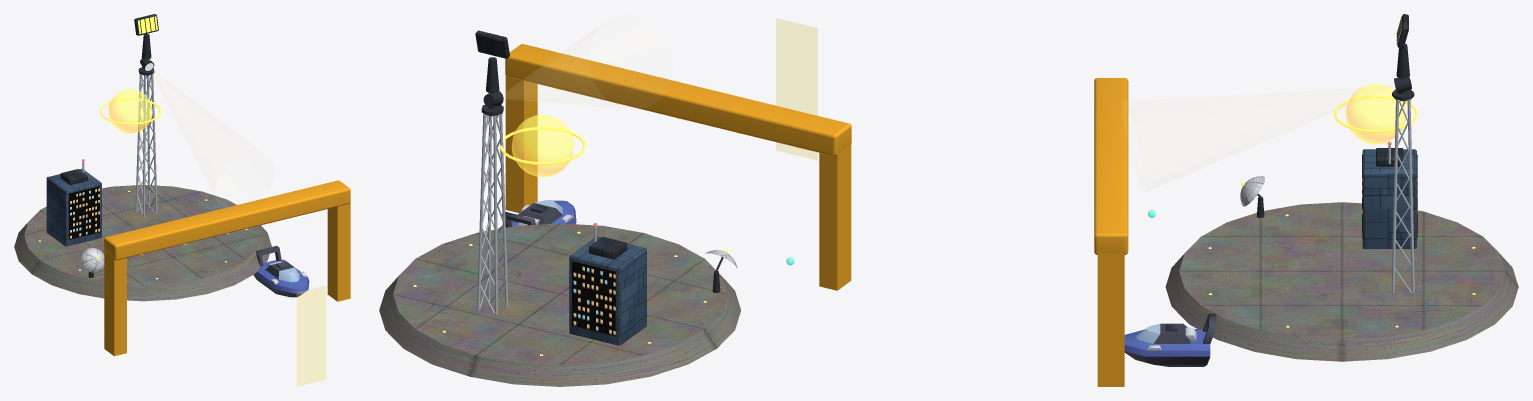
File: customs-T5.glb
3 renders of one model, left to right at view 1: azimuth 30°, elevation 25°; view 2: azimuth 150°, elevation 25°; view 3: azimuth 270°, elevation 25°, orthographic. The views are drawn at different scales.
Visible parts, largest first — view 1: object 1, object 81, anim:scan, object 80, object 79, object 11, boat-speed-a, object 92, object 12, anim:rot (×2), object 14, object 93; view 2: object 1, object 81, object 79, object 80, object 11, anim:scan, object 92, object 13, boat-speed-a, anim:rot, object 14, object 93 (+1 smaller); view 3: object 1, object 81, object 11, object 80, boat-speed-a, object 92.
Boxes of the visible parts, left/top/right/bottom form: object 1: left=14, top=185, right=271, bottom=301; object 81: left=104, top=180, right=350, bottom=260; anim:scan: left=297, top=286, right=326, bottom=386; object 80: left=327, top=203, right=350, bottom=301; object 79: left=104, top=251, right=126, bottom=356; object 11: left=46, top=169, right=101, bottom=246; boat-speed-a: left=253, top=245, right=309, bottom=297; object 92: left=108, top=89, right=152, bottom=133; object 12: left=68, top=186, right=99, bottom=239; anim:rot (×2): left=81, top=14, right=158, bottom=273; object 14: left=60, top=169, right=87, bottom=184; object 93: left=100, top=98, right=161, bottom=124; object 1: left=379, top=223, right=740, bottom=386; object 81: left=505, top=44, right=851, bottom=156; object 79: left=819, top=144, right=851, bottom=290; object 80: left=505, top=75, right=537, bottom=212; object 11: left=569, top=236, right=646, bottom=345; anim:scan: left=776, top=18, right=817, bottom=160; object 92: left=511, top=114, right=573, bottom=177; object 13: left=572, top=261, right=615, bottom=336; boat-speed-a: left=498, top=200, right=576, bottom=228; anim:rot: left=475, top=30, right=509, bottom=58; object 14: left=589, top=237, right=627, bottom=259; object 93: left=499, top=127, right=585, bottom=164; object 1: left=1165, top=202, right=1518, bottom=361; object 81: left=1094, top=78, right=1128, bottom=254; object 11: left=1362, top=149, right=1416, bottom=248; object 80: left=1097, top=253, right=1124, bottom=386; boat-speed-a: left=1124, top=313, right=1216, bottom=366; object 92: left=1345, top=83, right=1406, bottom=144.
Size of the model in its own units: 5.5 by 4.98 by 9.4.
Materials: 18 (7 with a texture image).
